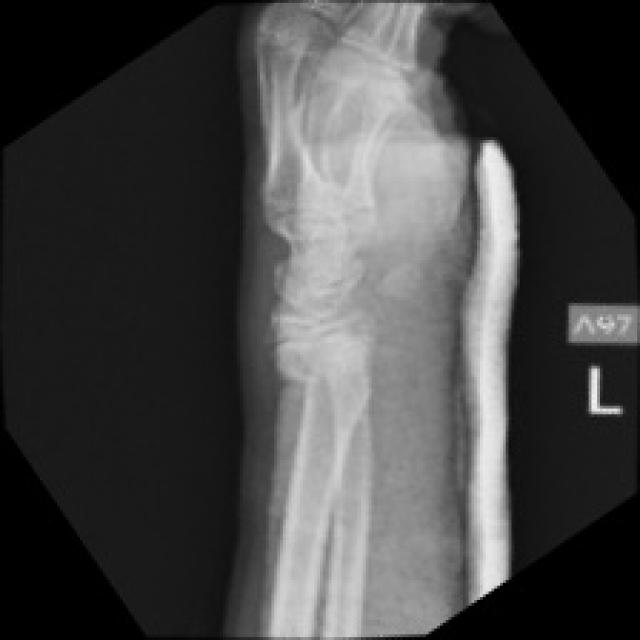fracture: (264, 318, 346, 434)
